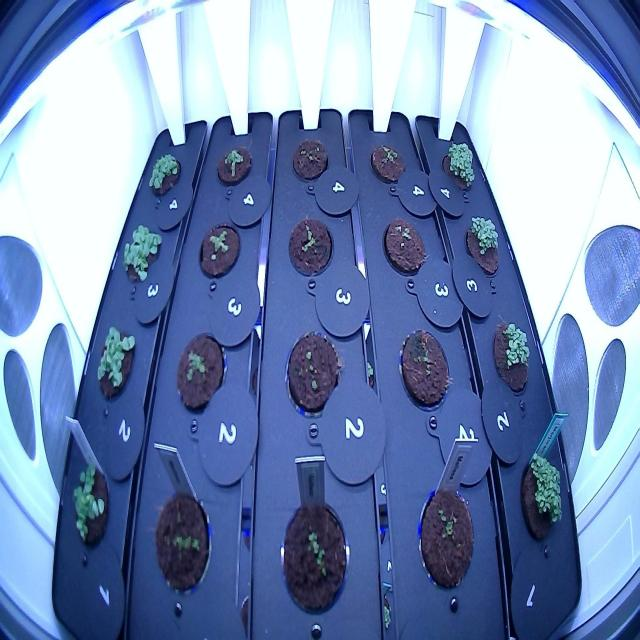germination: (277, 494, 354, 622), (411, 480, 477, 601), (150, 485, 214, 602), (279, 326, 345, 424), (516, 442, 568, 556), (172, 326, 230, 422), (64, 453, 115, 562), (88, 318, 140, 407), (486, 313, 536, 399), (117, 217, 166, 297), (377, 210, 428, 279), (462, 206, 508, 281), (194, 217, 243, 287), (286, 210, 335, 279), (438, 130, 483, 202), (146, 148, 184, 206), (367, 139, 408, 189), (214, 139, 253, 191)
pod: (393, 317, 452, 416), (288, 132, 332, 190)
